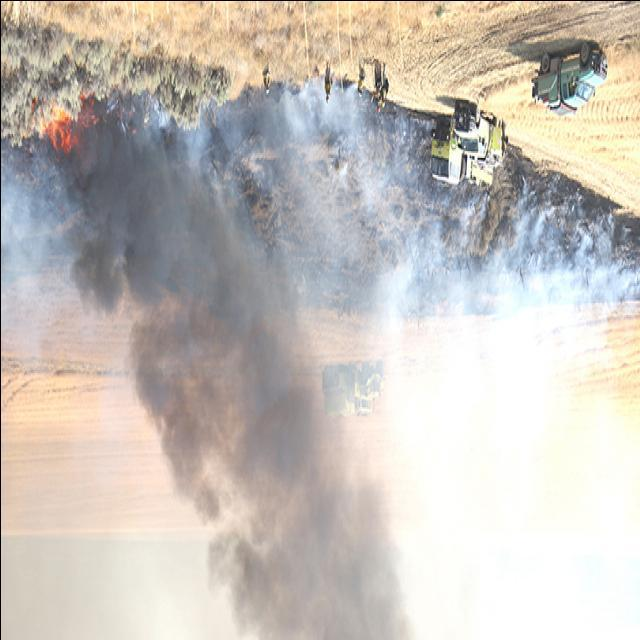Fire: (24, 80, 96, 154)
